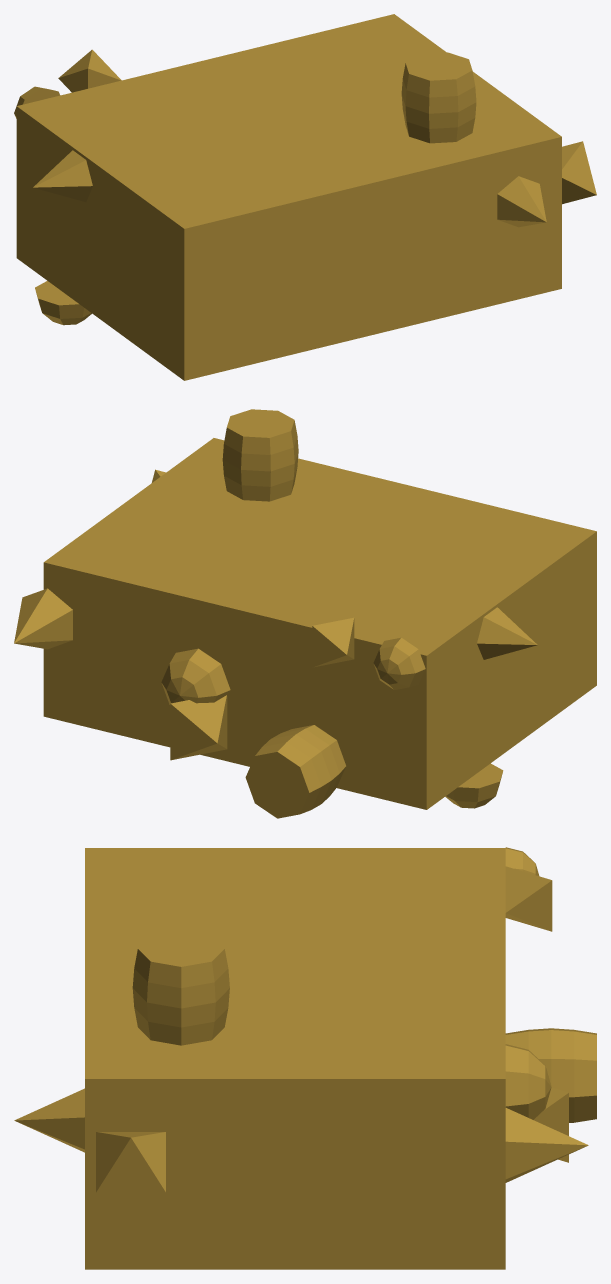
3 views of the same model, one above another, from view 1: azimuth 30°, elevation 25°; view 2: azimuth 150°, elevation 25°; view 3: azimuth 270°, elevation 25° (orthographic). The views are drawn at different scales.
Parts seen in each view (by area): view 1: object02_low; view 2: object02_low; view 3: object02_low.
Boxes of the visible parts, x1,y1,x2,y2 form: object02_low: (14, 14, 596, 380); object02_low: (14, 409, 596, 818); object02_low: (14, 847, 596, 1269).
Size of the model in its own units: 3.19 by 1.78 by 2.77.
